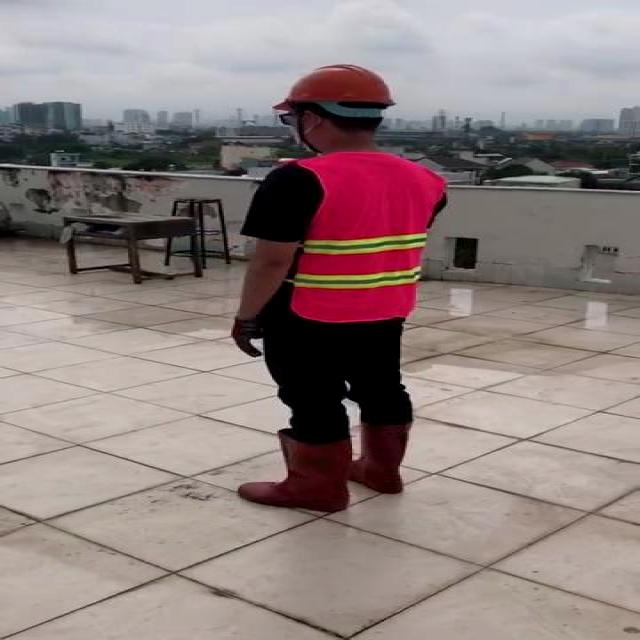boots: (242, 430, 354, 512), (343, 422, 411, 493)
hand_glove: (231, 315, 265, 358)
head_helmet: (266, 61, 402, 108)
person: (206, 59, 464, 516)
vest: (272, 153, 443, 321)
